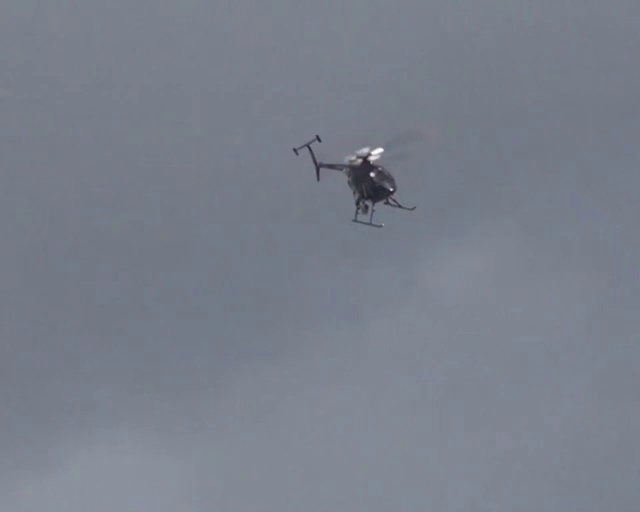HELICOPTER: (293, 130, 420, 228)
